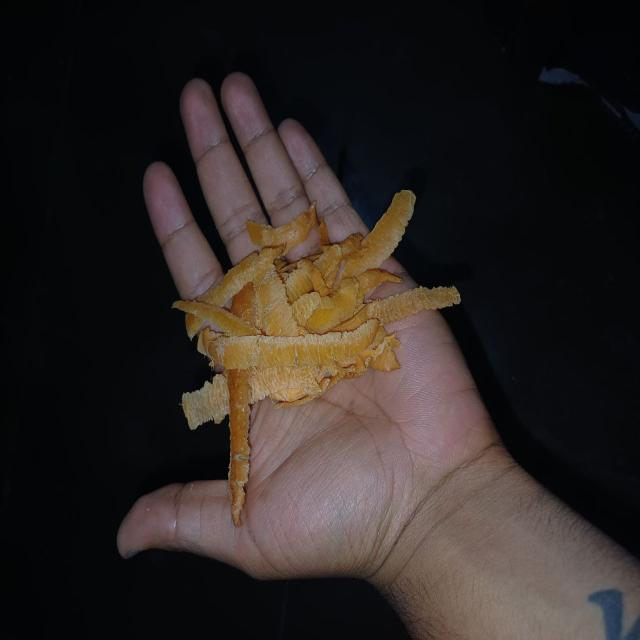organic: (172, 188, 463, 526)
